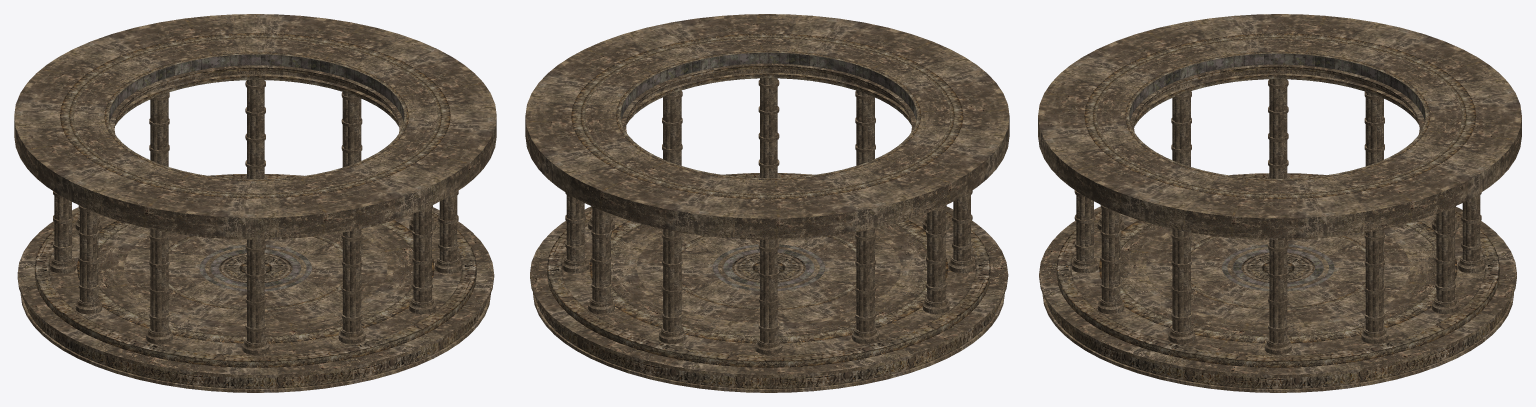
The model's file is materials_5_building_23.fbx.
The picture shows the model from 3 angles, left to right: view 1: azimuth 30°, elevation 25°; view 2: azimuth 150°, elevation 25°; view 3: azimuth 270°, elevation 25°; orthographic projection.
Parts seen in each view (by area): view 1: materials_5_building_23; view 2: materials_5_building_23; view 3: materials_5_building_23.
Boxes of the visible parts, x1,y1,x2,y2 form: materials_5_building_23: (14, 14, 496, 392); materials_5_building_23: (525, 14, 1009, 392); materials_5_building_23: (1038, 14, 1521, 392).
Size of the model in its own units: 1096 by 443 by 1096.
